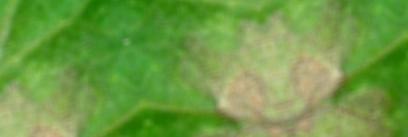Tomato leaf late blight: (86, 0, 322, 137)
